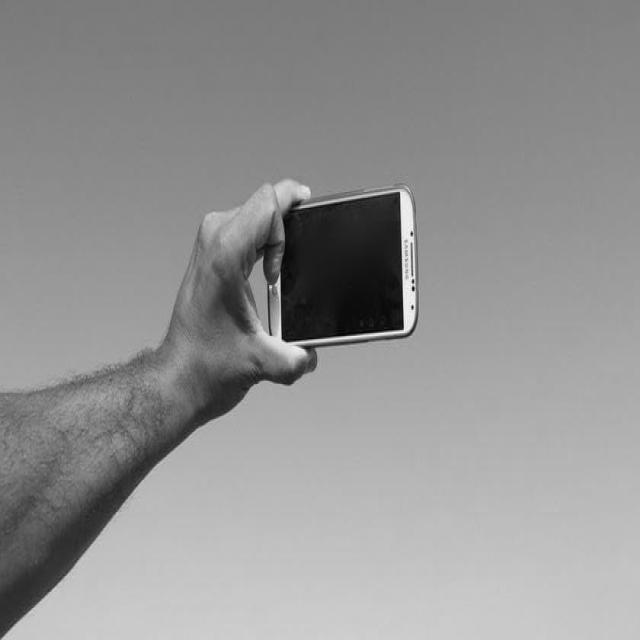No gun_phone: (269, 182, 417, 348)
